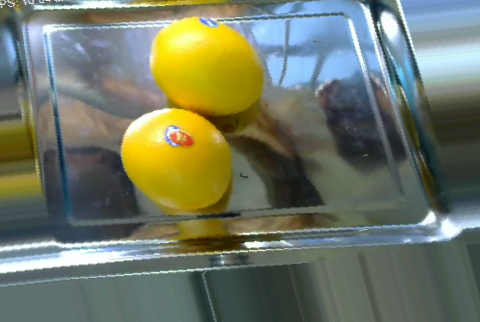Orange: (120, 107, 232, 209), (150, 17, 265, 116)
